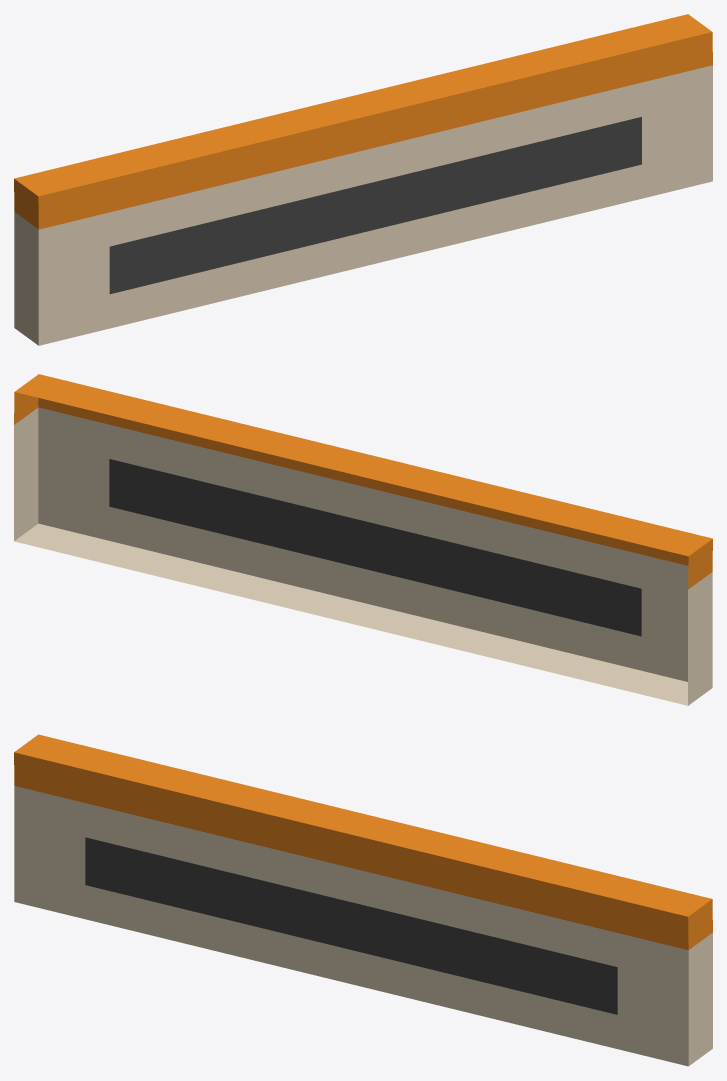
The model's file is bakerStreet_rectangleSign.fbx.
The picture shows the model from 3 angles, top to bottom: view 1: azimuth 30°, elevation 25°; view 2: azimuth 150°, elevation 25°; view 3: azimuth 330°, elevation 25°; orthographic projection.
Visible parts, largest first — view 1: Cube; view 2: Cube; view 3: Cube.
Boxes of the visible parts, bbox=[...] form: Cube: bbox=[14, 14, 712, 345]; Cube: bbox=[14, 374, 712, 705]; Cube: bbox=[14, 734, 712, 1066].
Bounding box in the file's own units: 268 × 56.78 × 16.8.
